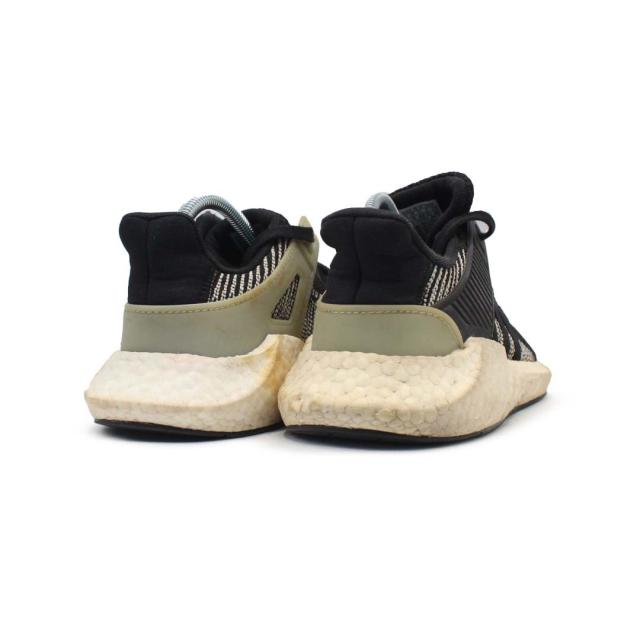heel: (309, 209, 464, 359), (117, 212, 267, 355)
midsole: (276, 338, 550, 439), (87, 331, 304, 431)
uppersole: (404, 191, 541, 363)
